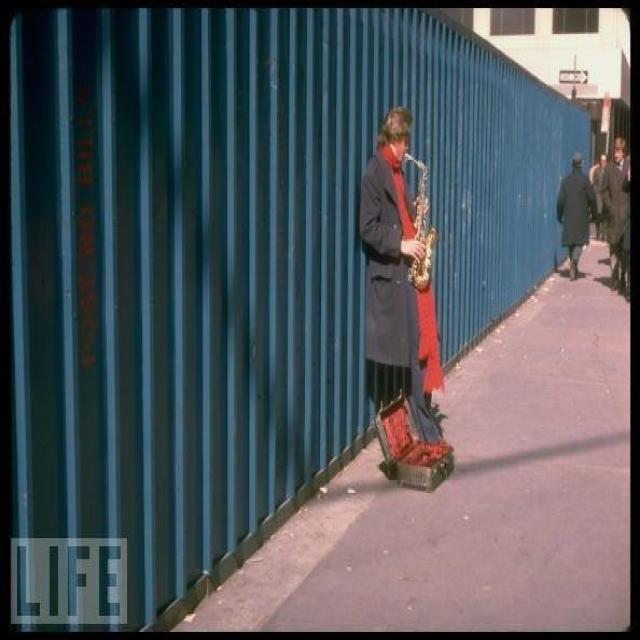saxophone: (402, 151, 440, 294)
